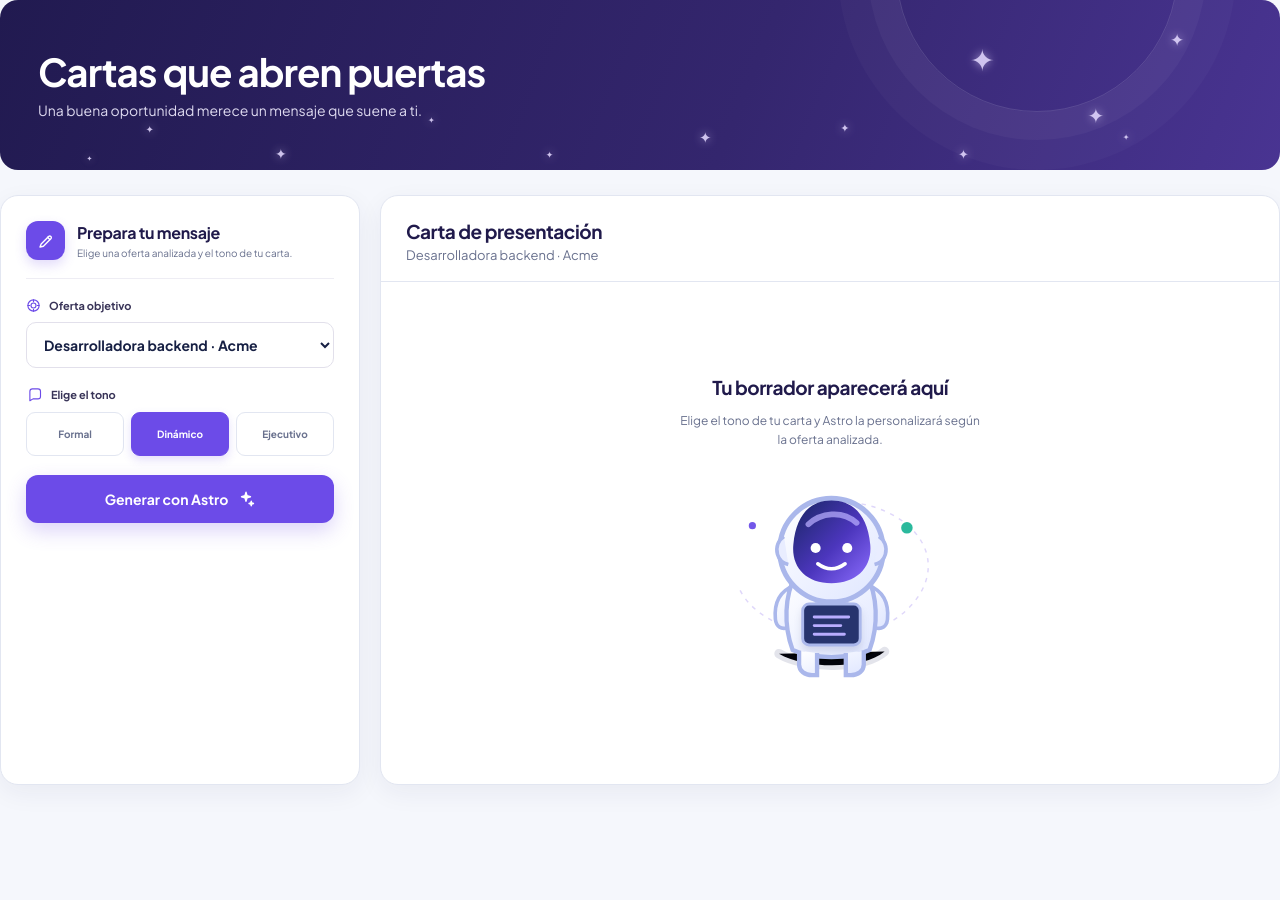
Test: LettersModule › reveals the generated letter progressively in the output
The width and height of the screenshot is (1280, 900).
What coordinates should you click on to do the following:
click the button "Generar con Astro"
I would click on:
 (180, 499)
Its box is [26,475,334,523].
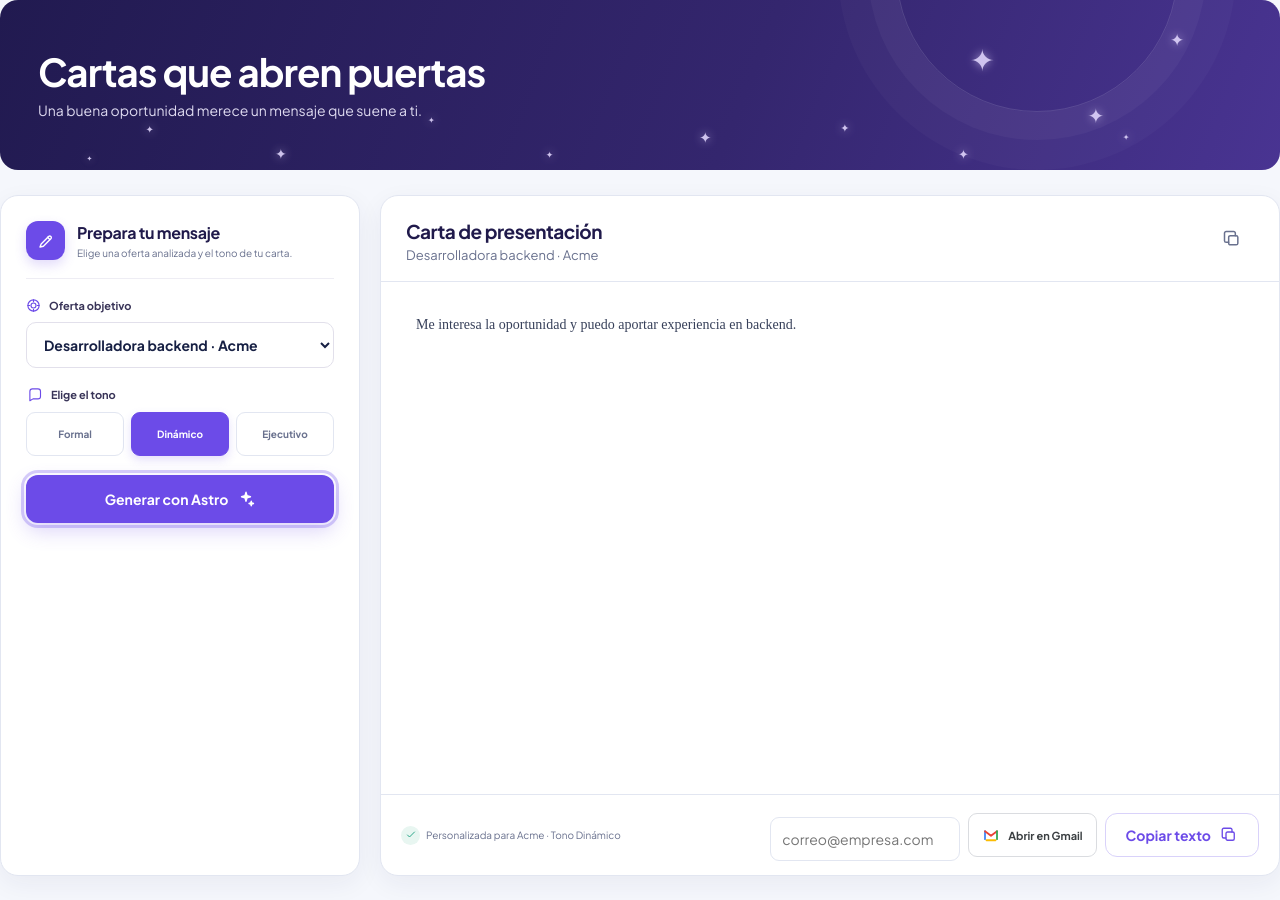
Now the text box named "Carta generada" holds "Me interesa la oportunidad y puedo aportar experiencia en backend.", box [381,282,1279,794]
